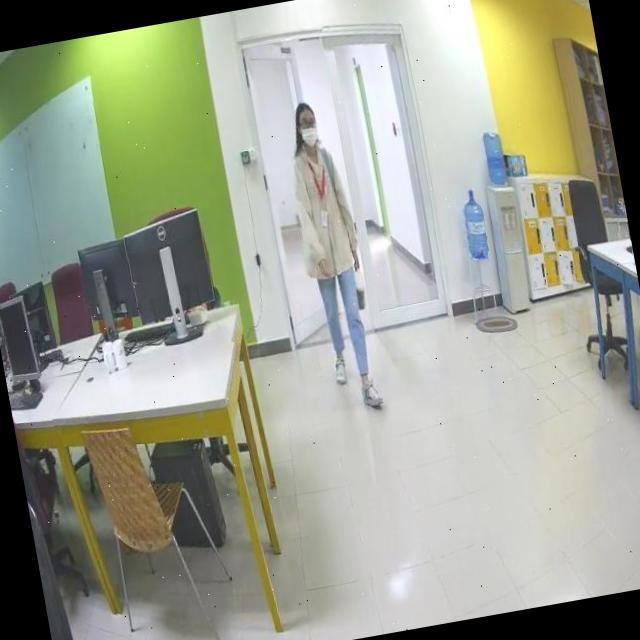person: (280, 101, 386, 418)
